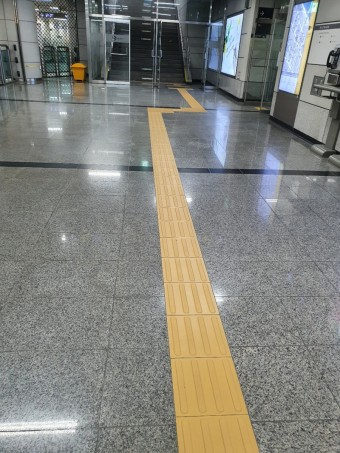guideBlock: (172, 358, 264, 415), (162, 284, 227, 321), (167, 319, 227, 358), (185, 418, 247, 453), (159, 256, 208, 285), (158, 242, 206, 257), (160, 223, 198, 237)
